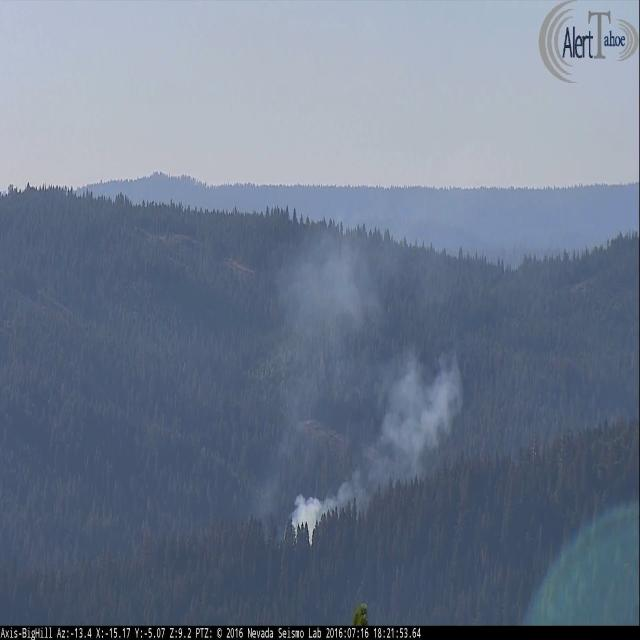smoke: (284, 352, 457, 551), (284, 235, 372, 329)
